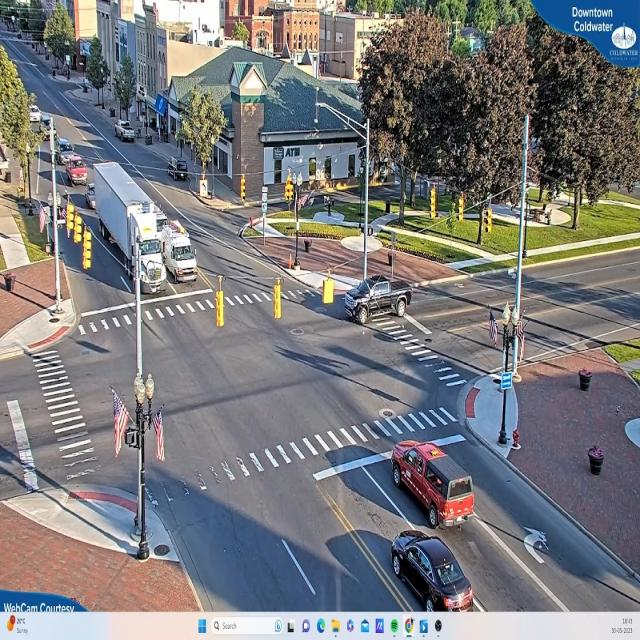car: (392, 440, 477, 530), (392, 528, 480, 610), (341, 273, 412, 326), (116, 124, 137, 144)
truck: (94, 162, 166, 292)
